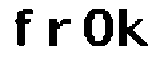0: (79, 4, 115, 50)
f: (12, 5, 37, 50)
k: (117, 6, 151, 50)
r: (42, 13, 72, 49)
